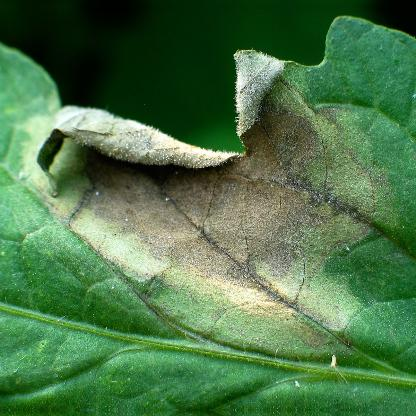Late-Blight: (9, 12, 415, 378)
